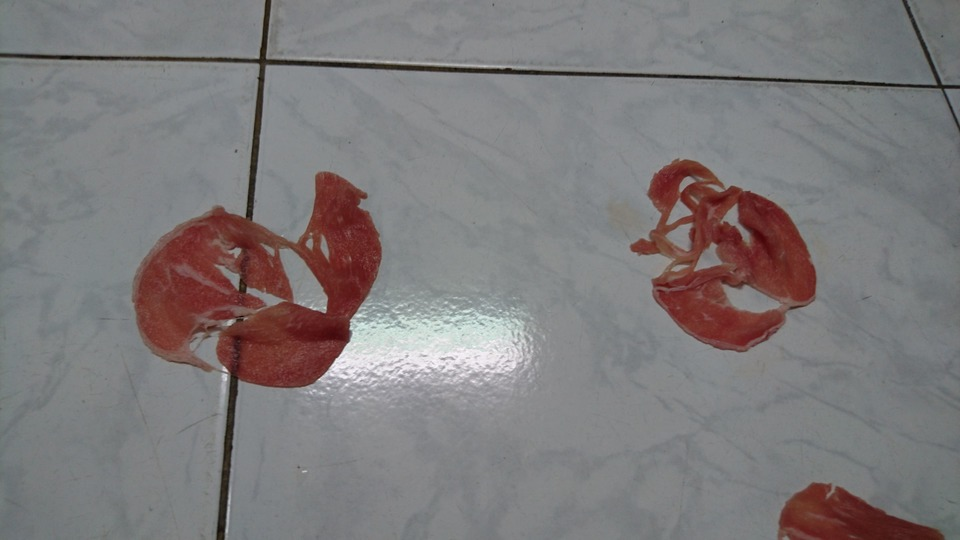restructured meat: (135, 167, 383, 397), (626, 150, 815, 352)
